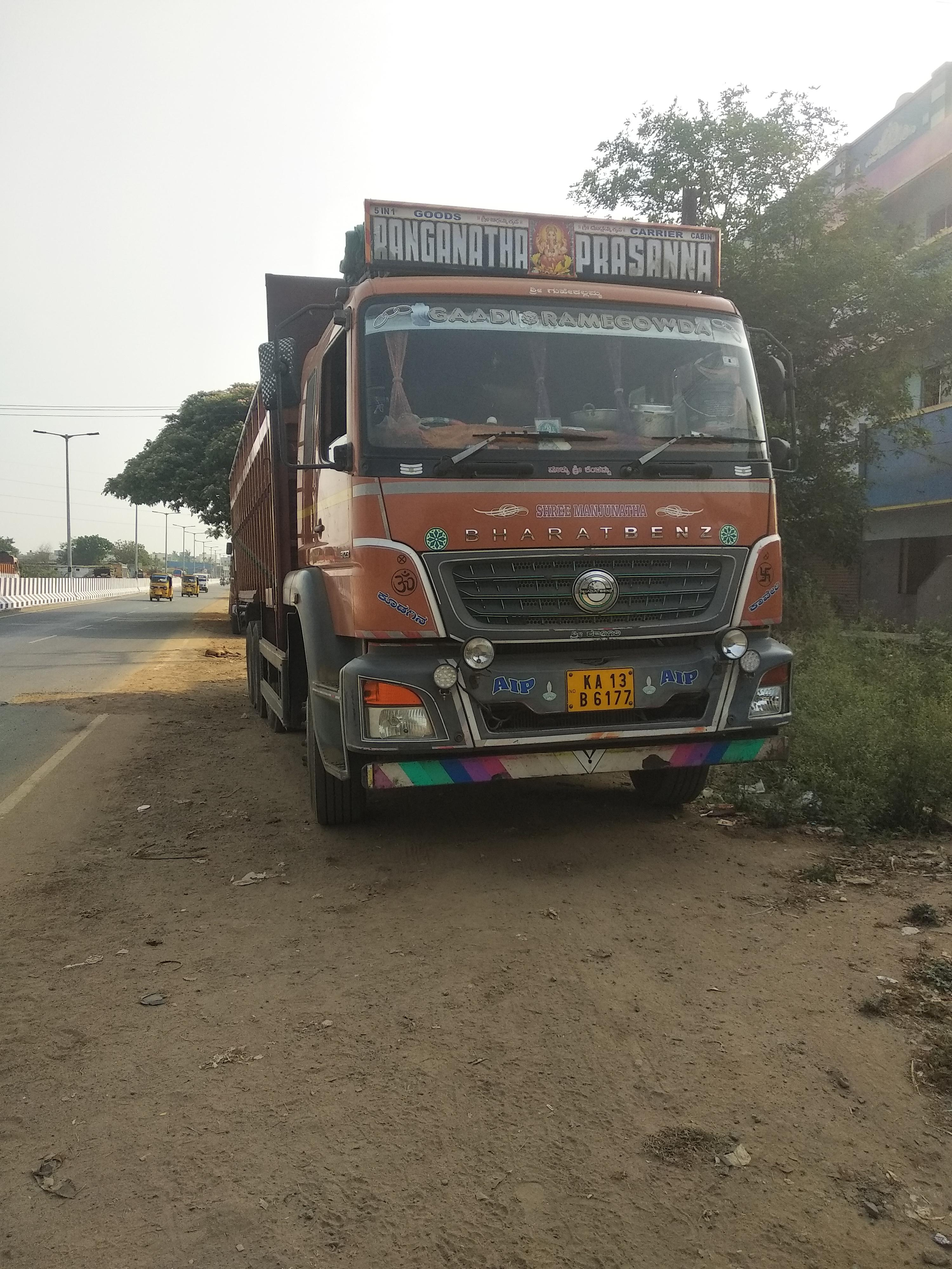non-ambulance: (160, 97, 902, 932)
